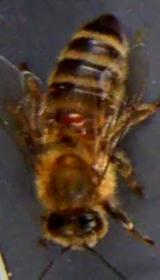varroa_mite: (56, 107, 91, 132)
